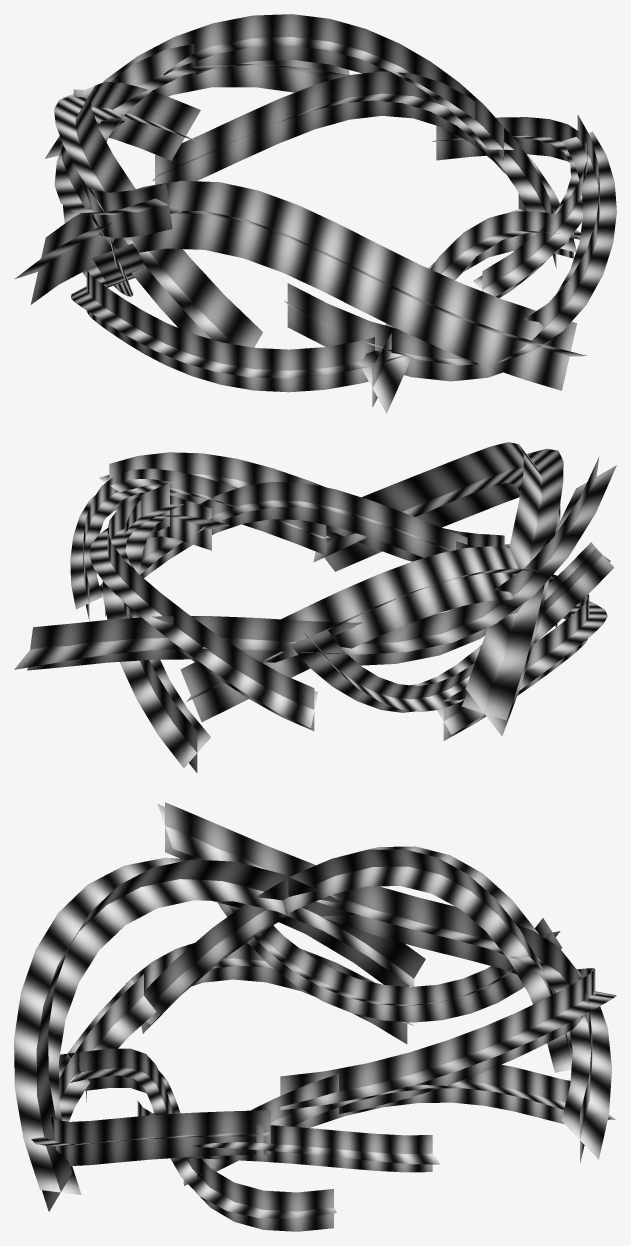
Rendered from vfx_kurp_0062.dae.
3 views of the same model, one above another, from view 1: azimuth 30°, elevation 25°; view 2: azimuth 150°, elevation 25°; view 3: azimuth 270°, elevation 25° (orthographic). The views are drawn at different scales.
Visible parts, largest first — view 1: vfx_kurp_0062; view 2: vfx_kurp_0062; view 3: vfx_kurp_0062.
Boxes of the visible parts, x1=… form: vfx_kurp_0062: x1=14, y1=14, x2=616, y2=413; vfx_kurp_0062: x1=14, y1=442, x2=616, y2=772; vfx_kurp_0062: x1=14, y1=802, x2=616, y2=1231.
Bounding box in the file's own units: 12.79 × 12.83 × 5.78.
Materials: 1 (1 with a texture image).
